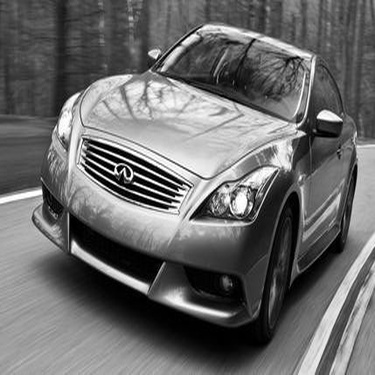car: (30, 17, 367, 351)
